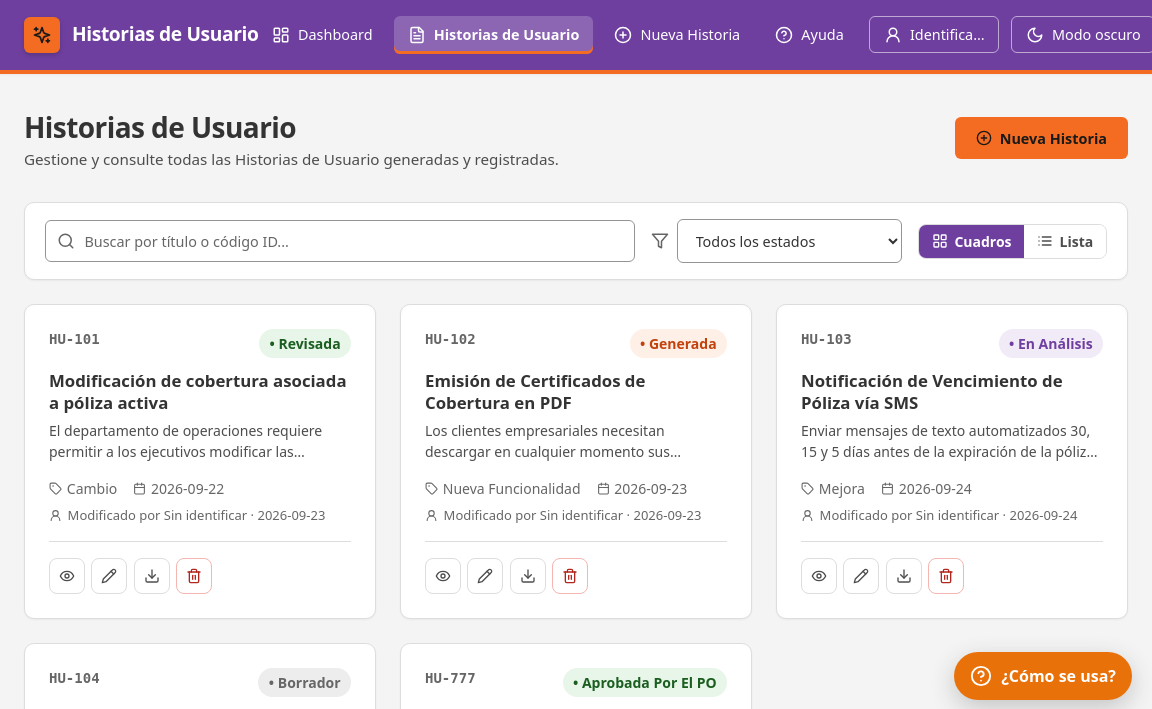
Scenario: eliminar historias › elimina desde el listado una historia local tras confirmar en el diálogo, sin tocar el repositorio
Step 1. Click the button named "Eliminar historia HU-101" → (194, 576), box [176,558,212,594]
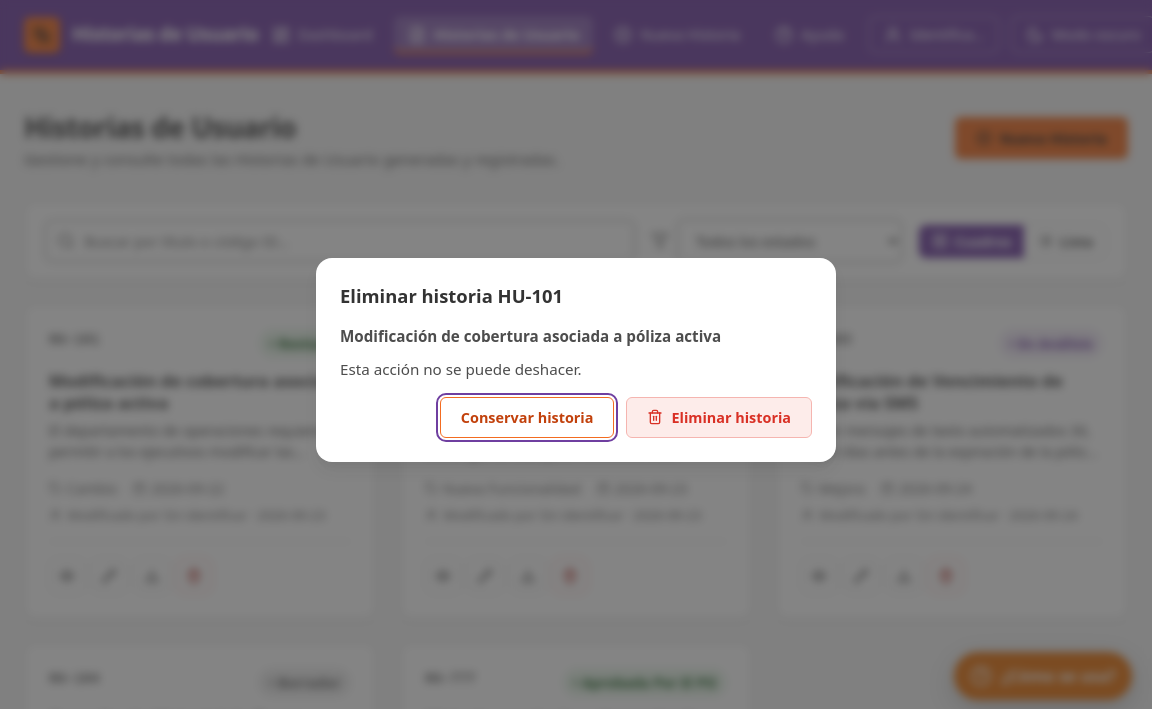
Check: the text "Esta acción no se puede deshacer." is shown, box [340,359,582,379]
Step 2. Click the button "Eliminar historia" → (719, 417), box [626,396,812,438]
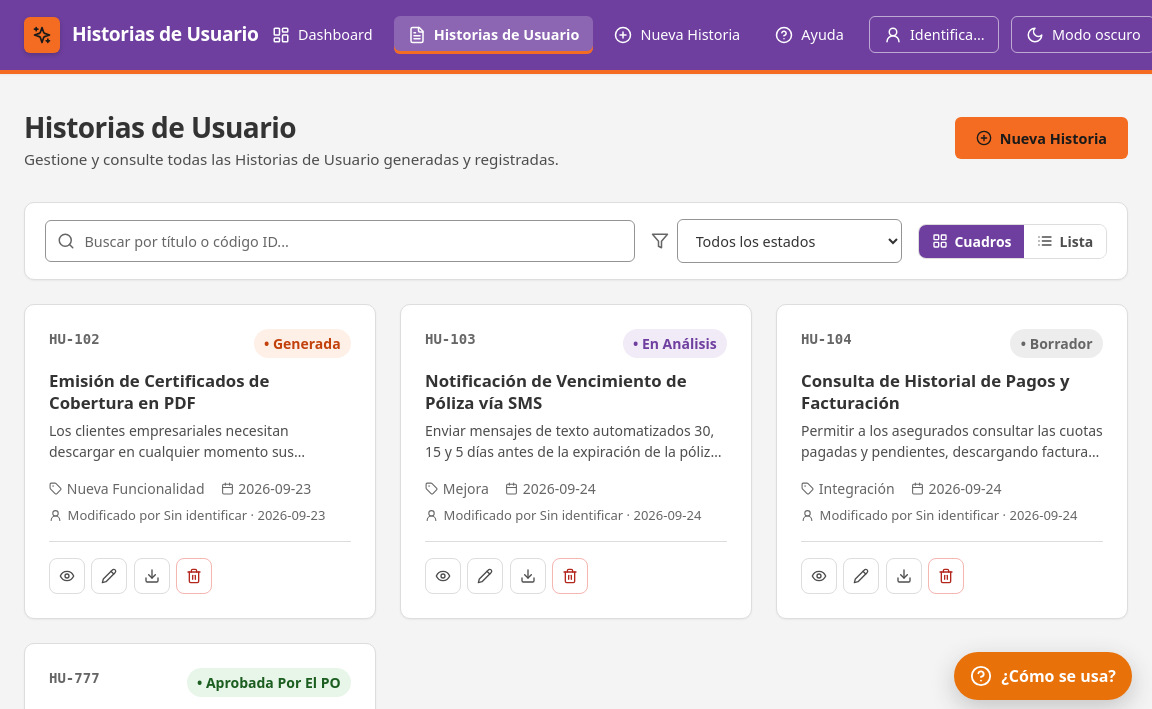
Check: the text "HU-101" is gone
Check: the dialog is gone
